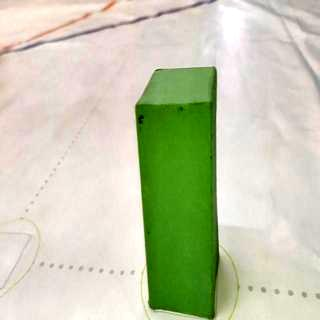greenbox: (135, 66, 220, 320)
